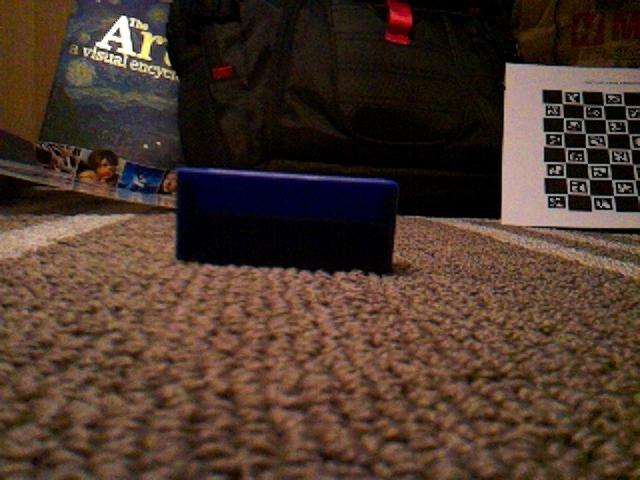blue: (173, 165, 401, 276)
